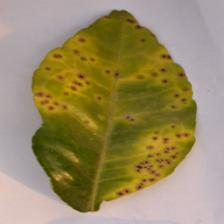canker: (41, 28, 206, 196)
